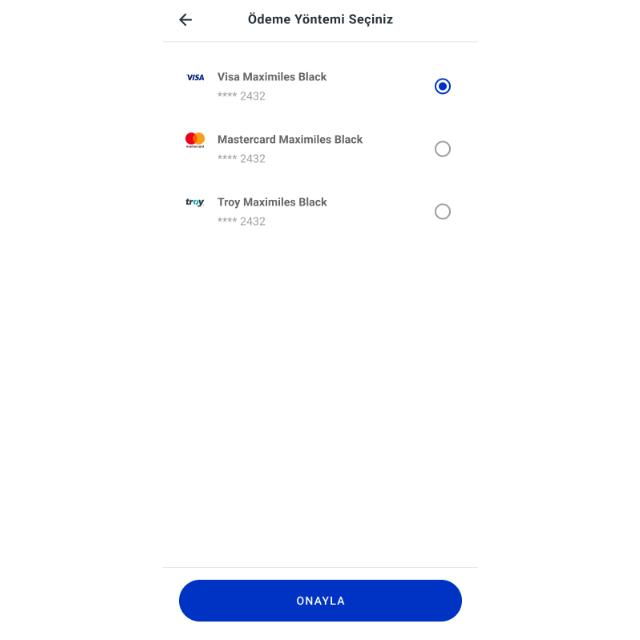QLabel: (246, 12, 394, 28), (215, 134, 361, 144), (213, 196, 325, 208), (217, 70, 326, 82), (290, 590, 346, 610), (215, 214, 269, 228), (215, 89, 268, 103), (216, 151, 268, 165)
VAppBar: (162, 0, 478, 42)
VBtn: (178, 579, 462, 621)
VFooter: (162, 566, 478, 640)
VIcon: (174, 12, 193, 28)
VImg: (180, 128, 208, 152), (180, 67, 208, 89), (180, 192, 207, 214)
VRadio: (432, 138, 452, 160), (430, 202, 452, 222), (432, 76, 452, 96)
